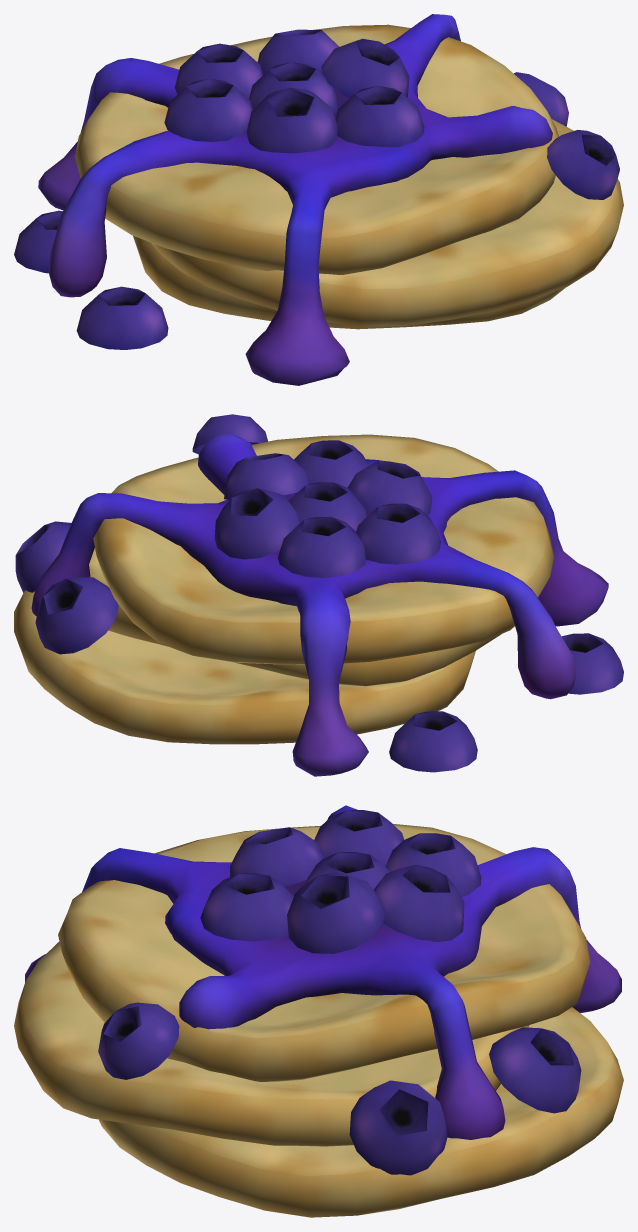
File: m_recipe_blueberry_pancake_01.fbx
The picture shows the model from 3 angles, top to bottom: view 1: azimuth 30°, elevation 25°; view 2: azimuth 150°, elevation 25°; view 3: azimuth 270°, elevation 25°; orthographic projection. The views are drawn at different scales.
Parts seen in each view (by area): view 1: m_recipe_blueberry_pancake_01_0; view 2: m_recipe_blueberry_pancake_01_0; view 3: m_recipe_blueberry_pancake_01_0.
Part boxes in pixels (left/top/right/bottom): m_recipe_blueberry_pancake_01_0: left=14, top=14, right=623, bottom=385; m_recipe_blueberry_pancake_01_0: left=14, top=414, right=623, bottom=776; m_recipe_blueberry_pancake_01_0: left=14, top=805, right=623, bottom=1217.
Bounding box in the file's own units: 0.7291 × 0.2697 × 0.6424.
